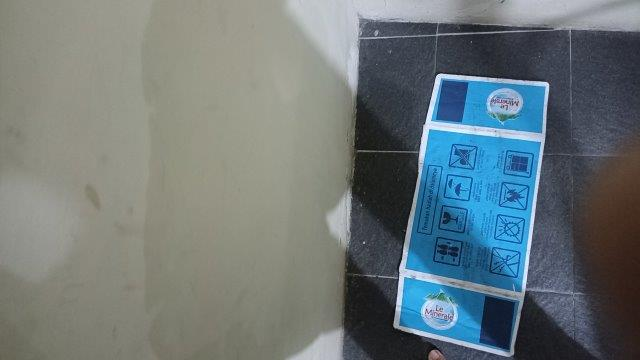kardus: (394, 74, 547, 354)
